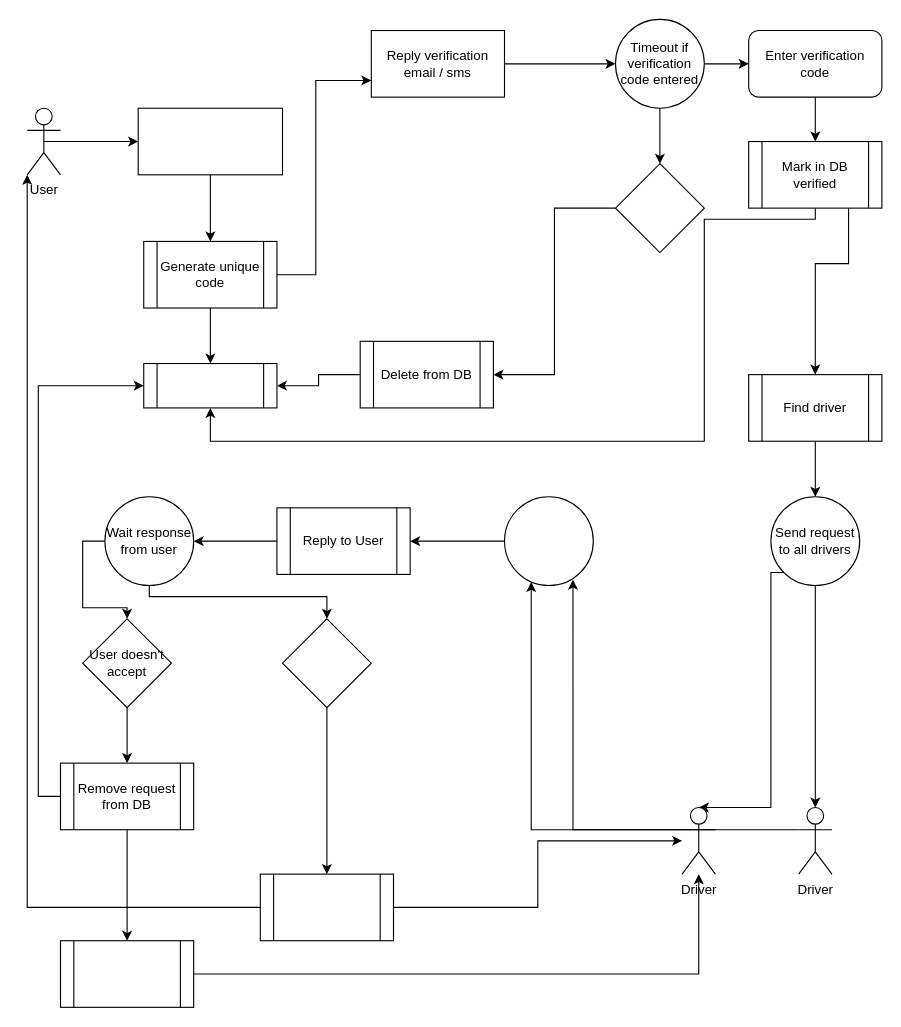
The diagram is 901 pixels wide and 1027 high, and some of its shapes have lost their labels. Here are the shapes that lost their labels. From the top down, the box of each, then its label:
(137, 107, 282, 175): Enter address, time, Telephone, email, what to deliver
(614, 163, 704, 253): Verification code not entered
(143, 362, 277, 408): Save to DB
(503, 496, 593, 586): Wait response from drivers
(281, 618, 371, 708): User accepts
(259, 873, 393, 941): Reply confirmation to driver and user
(59, 940, 194, 1007): Reply decline to driver
